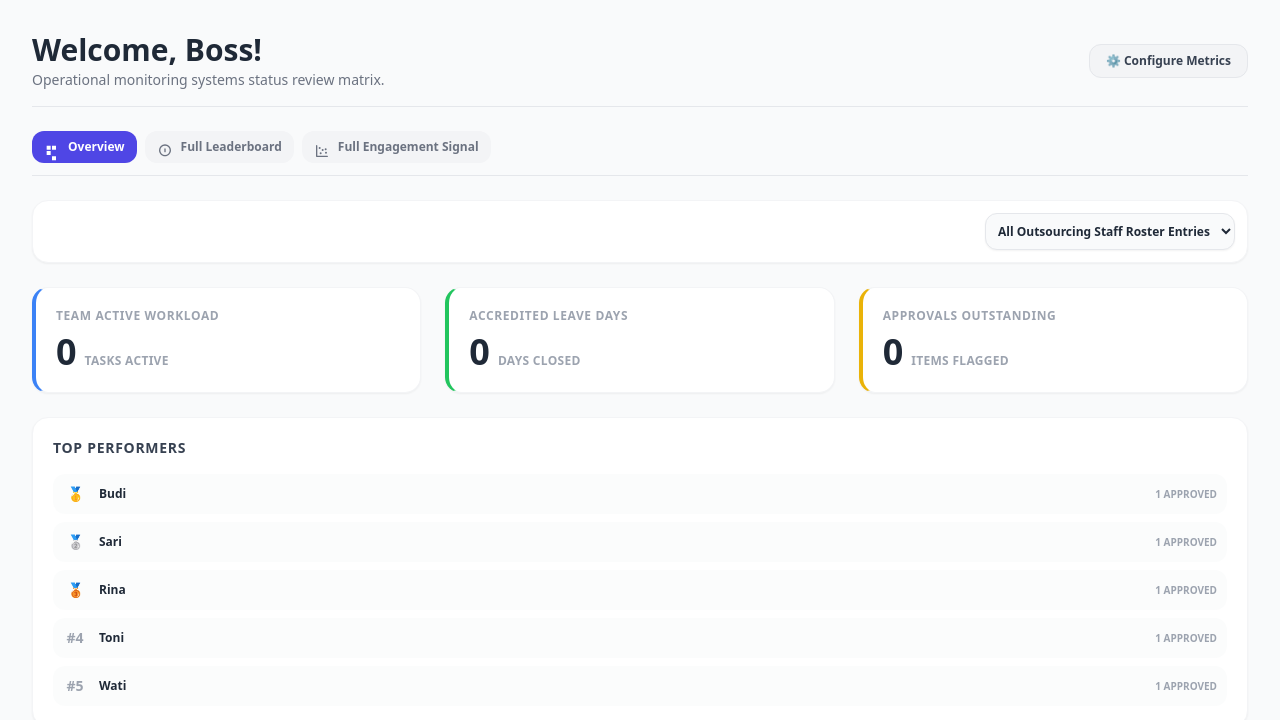
DashboardView › the Full Leaderboard tab includes an employee beyond the widget's top-5 cutoff
What coordinates should you click on to do the following:
click the tab "Full Leaderboard"
I would click on:
 (219, 147)
Its box is [144,131,294,163].
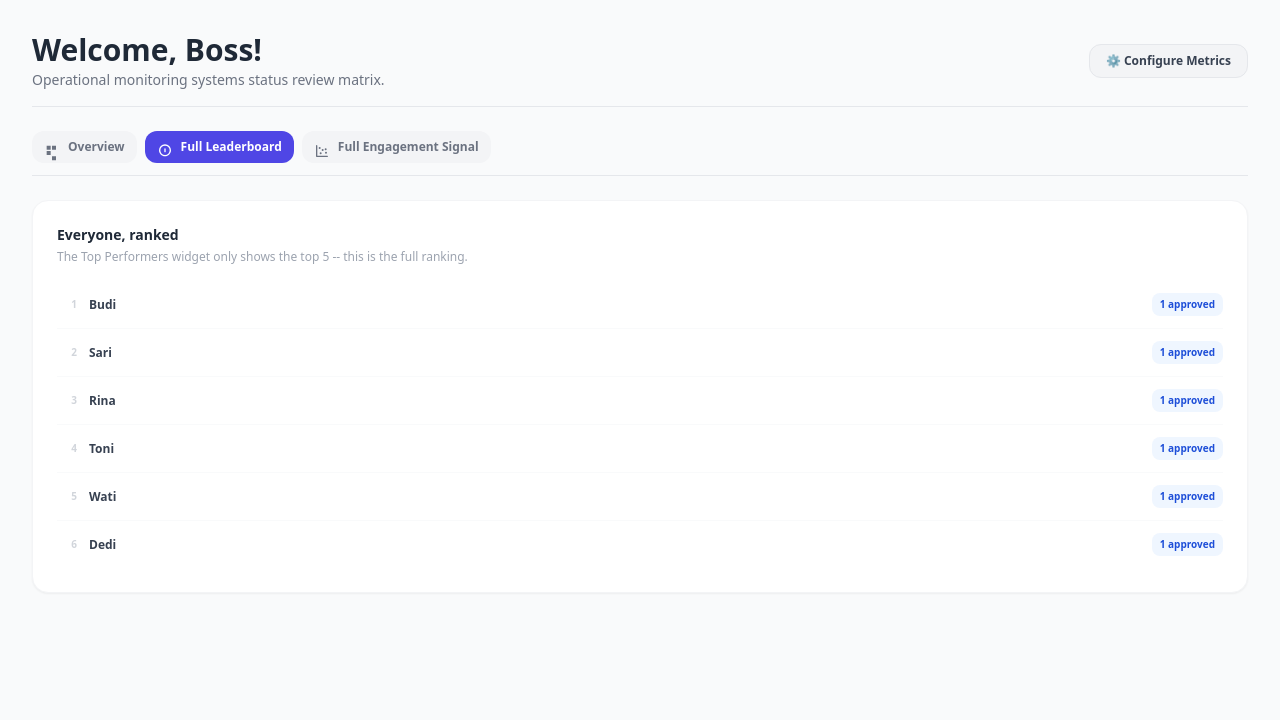
expect the text "Dedi" is shown: met, box [89,536,116,552]
expect the heading "Everyone, ranked" is shown: met, box [57,225,179,244]
